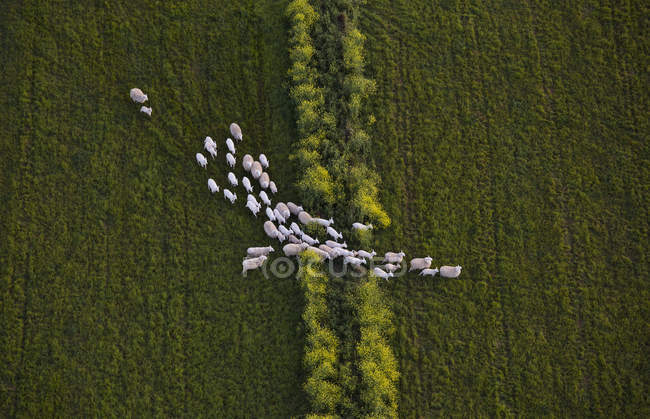sheep: (243, 257, 267, 276), (282, 241, 308, 257), (439, 263, 462, 279), (259, 191, 277, 211), (306, 247, 329, 262), (384, 248, 405, 264), (249, 244, 274, 257), (311, 216, 336, 229), (317, 244, 337, 260), (277, 201, 293, 221), (326, 226, 345, 242), (262, 220, 278, 239), (411, 256, 431, 271), (207, 178, 222, 198), (335, 246, 358, 259), (374, 267, 394, 281), (300, 232, 320, 246), (131, 88, 148, 104), (239, 176, 254, 194), (222, 189, 237, 207), (230, 123, 244, 142), (265, 205, 279, 223), (344, 256, 366, 267), (205, 137, 216, 159), (194, 153, 209, 169), (241, 154, 255, 171), (289, 201, 304, 216), (256, 153, 269, 170), (325, 239, 346, 249), (288, 223, 302, 237), (248, 201, 261, 216), (225, 139, 236, 156), (352, 223, 372, 232), (358, 249, 376, 259), (277, 225, 292, 237), (223, 152, 235, 167), (271, 208, 283, 222), (228, 173, 239, 188), (300, 210, 310, 226), (251, 162, 261, 178), (247, 195, 259, 208), (269, 181, 280, 195), (422, 267, 440, 275), (383, 263, 400, 271), (142, 104, 153, 116), (261, 173, 268, 190)
